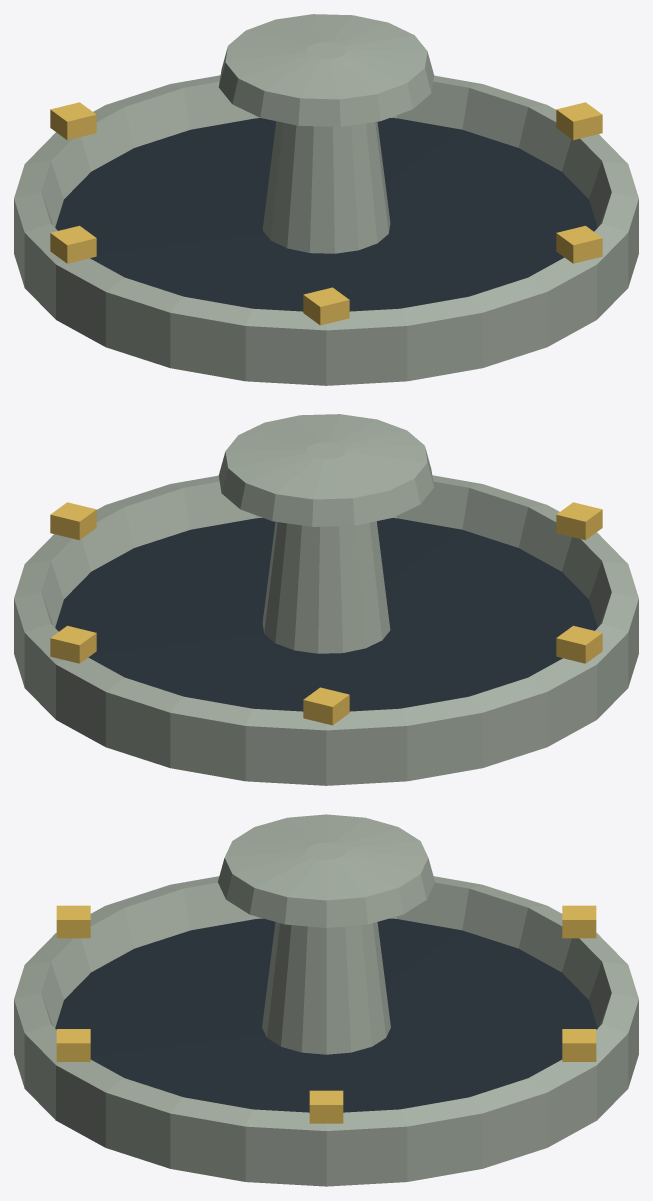
File: fountain.glb
The picture shows the model from 3 angles, top to bottom: view 1: azimuth 30°, elevation 25°; view 2: azimuth 150°, elevation 25°; view 3: azimuth 270°, elevation 25°; orthographic projection.
Visible parts, largest first — view 1: LOD0; view 2: LOD0; view 3: LOD0.
Part boxes in pixels (x1,y1,x2,y2): LOD0: [14, 14, 638, 385]; LOD0: [14, 414, 638, 785]; LOD0: [14, 814, 638, 1186].
Size of what is drawn, in the model's own units: 9.2 by 3.3 by 9.2.
